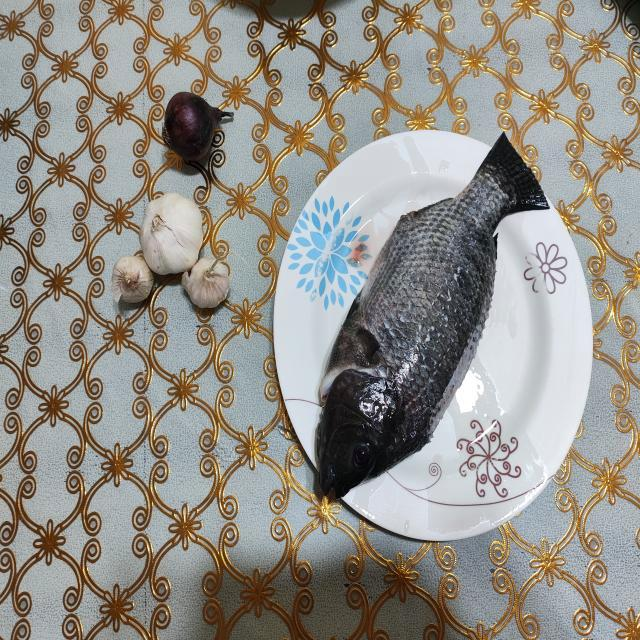fish: (314, 129, 550, 498)
garlic: (114, 192, 231, 313)
onion: (163, 92, 223, 162)
